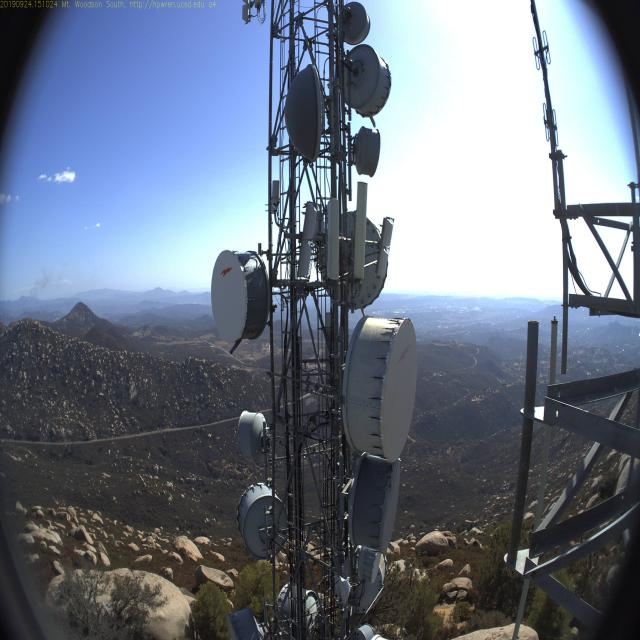smoke: (27, 264, 58, 310)
